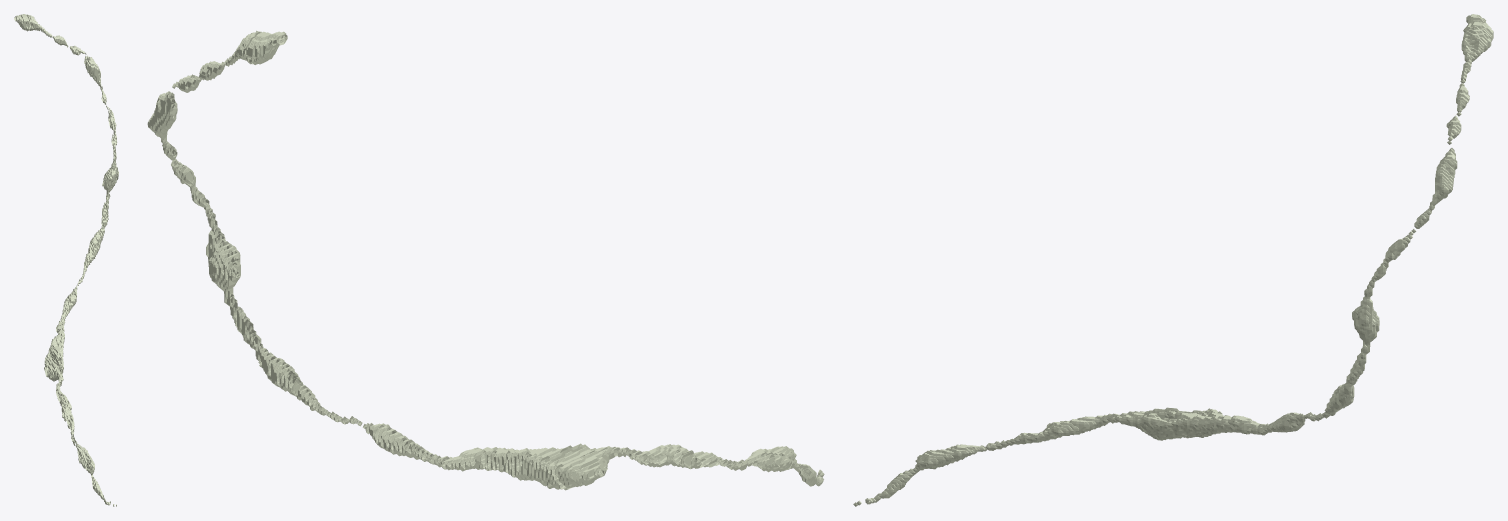
File: SVV_ADFR.gltf
3 views of the same model, side by side, from view 1: azimuth 30°, elevation 25°; view 2: azimuth 150°, elevation 25°; view 3: azimuth 270°, elevation 25° (orthographic). The views are drawn at different scales.
Visible parts, largest first — view 1: ADFR; view 2: ADFR; view 3: ADFR.
Boxes of the visible parts, <box> form: ADFR: <box>14,14,118,506</box>; ADFR: <box>147,30,824,490</box>; ADFR: <box>853,14,1493,506</box>.
Size of the model in its own units: 86339 by 162275 by 167682.
